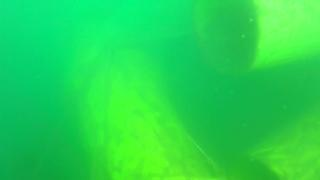pipe: (65, 63, 227, 180), (194, 1, 320, 77), (232, 111, 320, 179)
